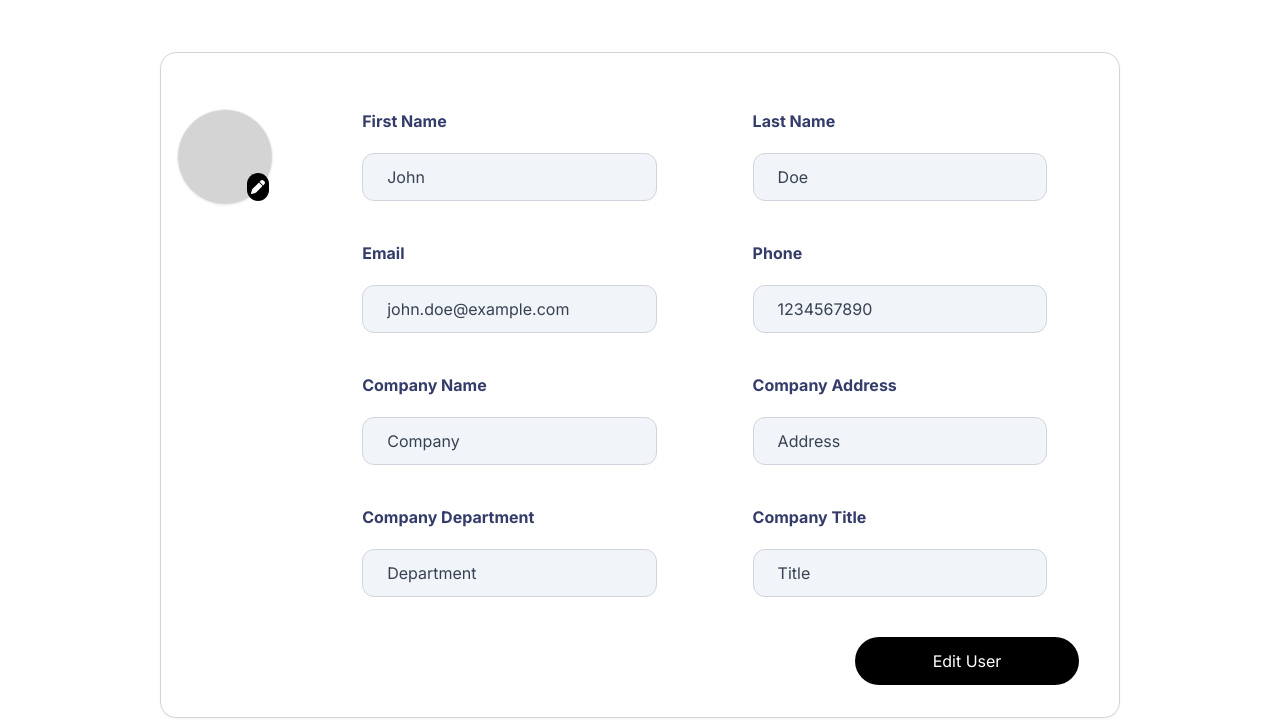
Test: UserSettings Component › validates email format correctly
The width and height of the screenshot is (1280, 720).
Replace the text in the field with placeholder "Email" below "Email" with "invalid-val" at (509, 309), box [379,297,640,321]
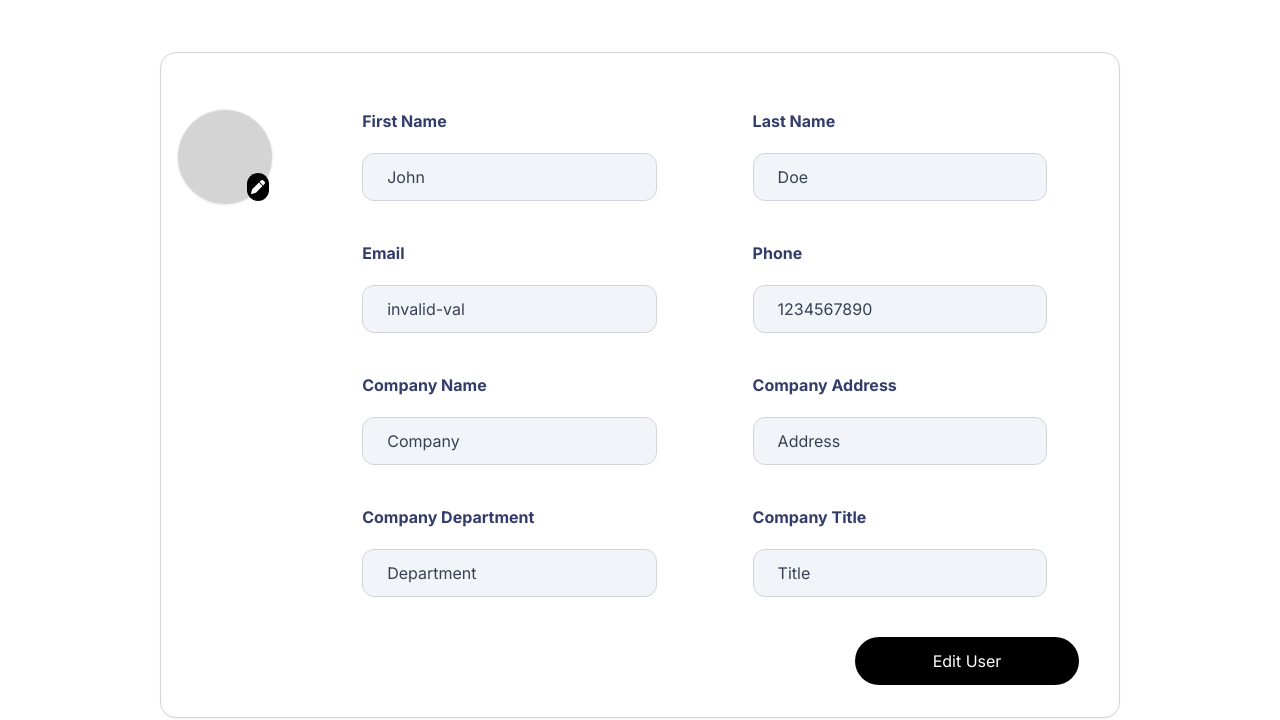
Click the button "Edit User" at (967, 661), box [855,637,1079,685]
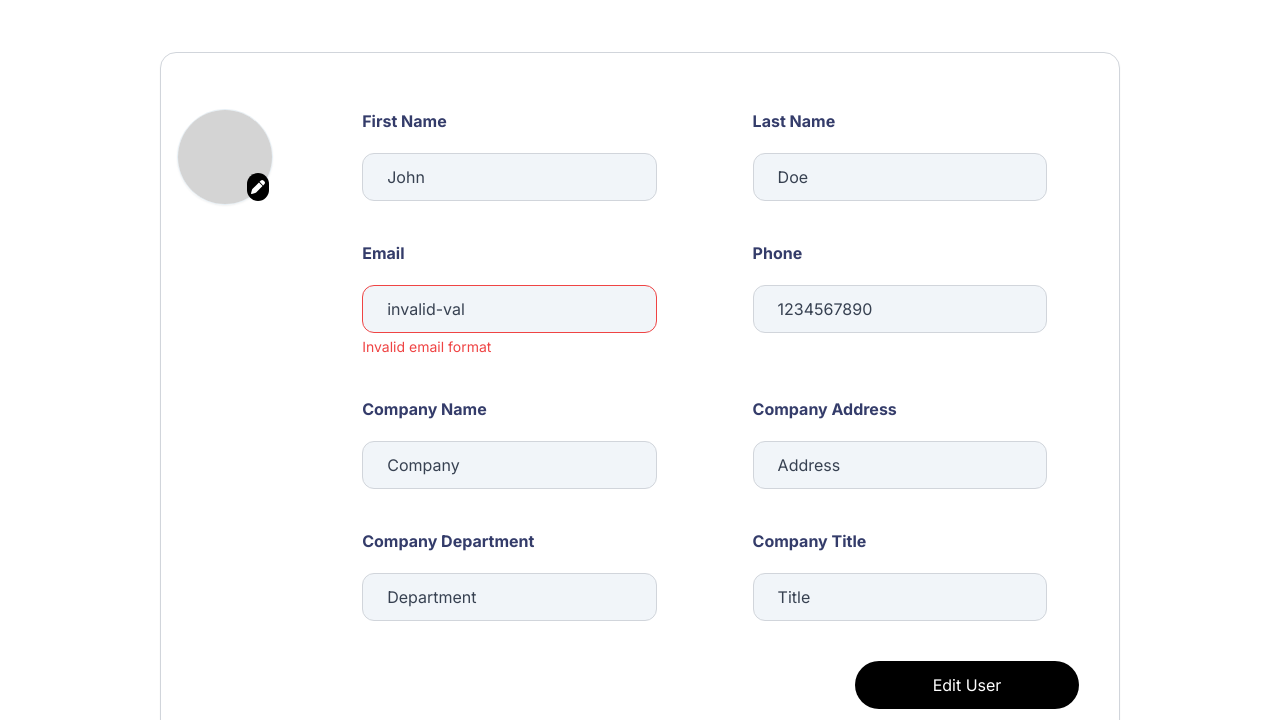
Expected: the text "Invalid email format" is shown, [362,338,491,355]
